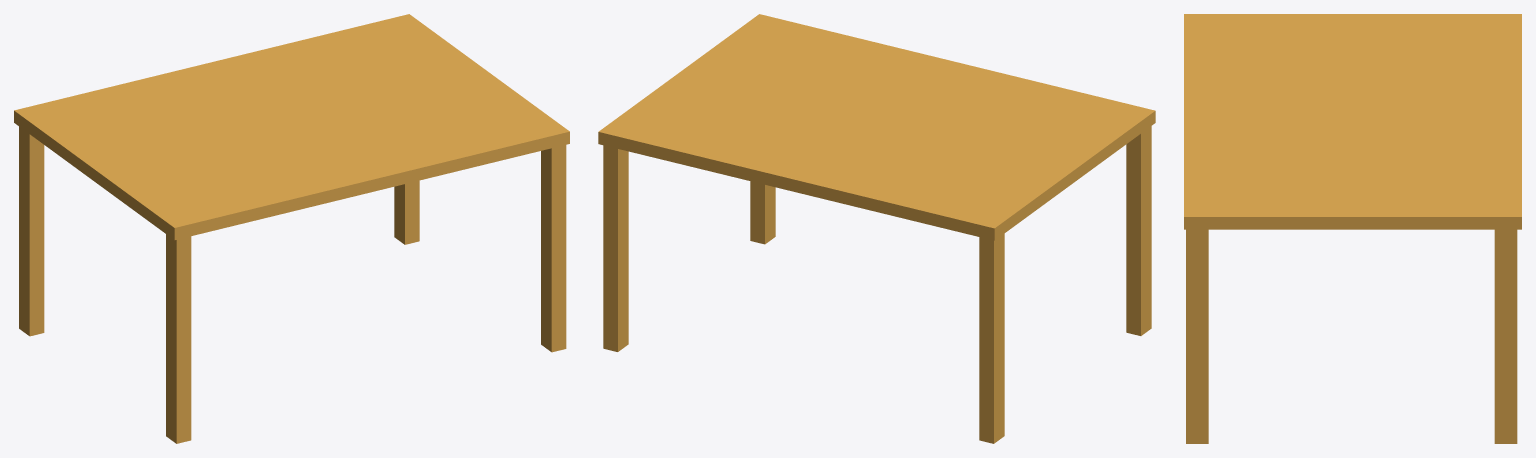
File: Table.fbx
3 views of the same model, side by side, from view 1: azimuth 30°, elevation 25°; view 2: azimuth 150°, elevation 25°; view 3: azimuth 270°, elevation 25° (orthographic). The views are drawn at different scales.
Visible parts, largest first — view 1: Table; view 2: Table; view 3: Table.
Part boxes in pixels (box(x1,y1,x2,y2)): Table: box(14, 14, 569, 443); Table: box(598, 14, 1155, 443); Table: box(1184, 14, 1521, 443).
Bounding box in the file's own units: 650 × 341 × 457.
